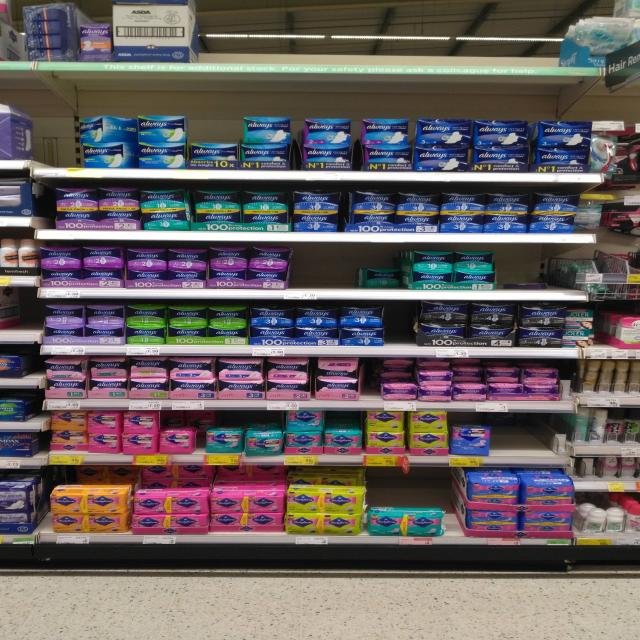empty: (201, 5, 568, 64), (494, 240, 579, 290), (284, 241, 362, 291), (27, 107, 86, 173), (489, 410, 557, 466)
